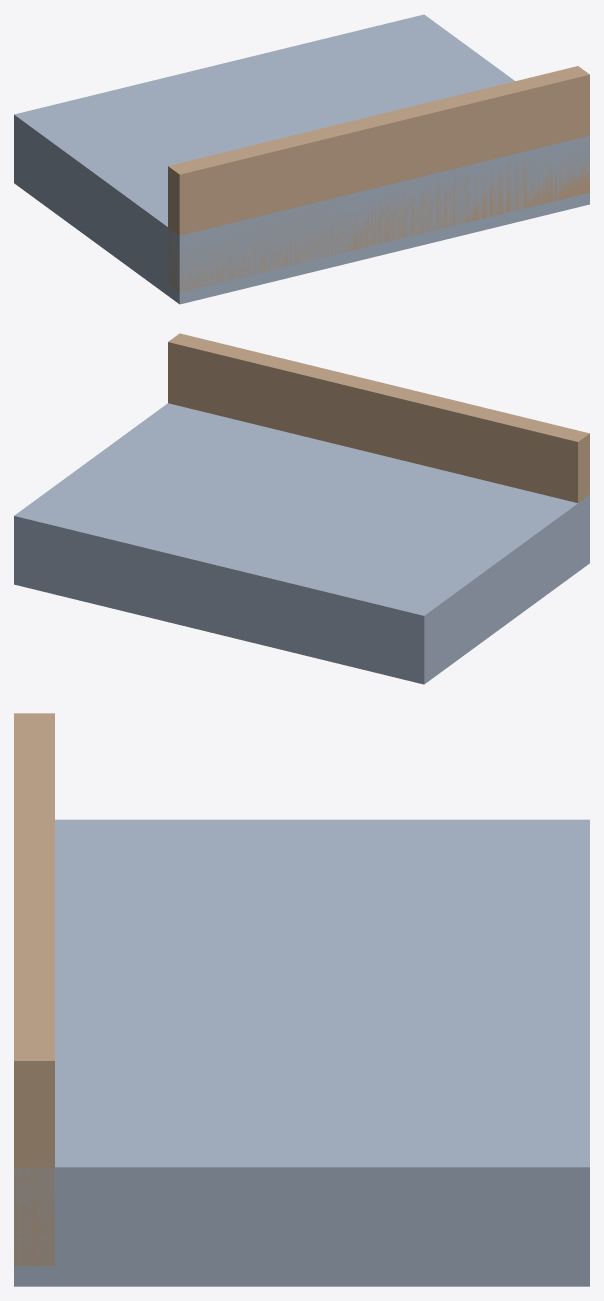
Rendered from bed.glb.
The picture shows the model from 3 angles, top to bottom: view 1: azimuth 30°, elevation 25°; view 2: azimuth 150°, elevation 25°; view 3: azimuth 270°, elevation 25°; orthographic projection. The views are drawn at different scales.
Parts seen in each view (by area): view 1: mattress, headboard; view 2: mattress, headboard; view 3: mattress, headboard.
Boxes of the visible parts, left/top/right/bottom form: mattress: left=14, top=14, right=589, bottom=304; headboard: left=168, top=66, right=589, bottom=292; mattress: left=14, top=403, right=589, bottom=684; headboard: left=168, top=333, right=589, bottom=502; mattress: left=14, top=819, right=589, bottom=1286; headboard: left=14, top=713, right=54, bottom=1265.
Bounding box in the file's own units: 2 × 0.605 × 1.4.
